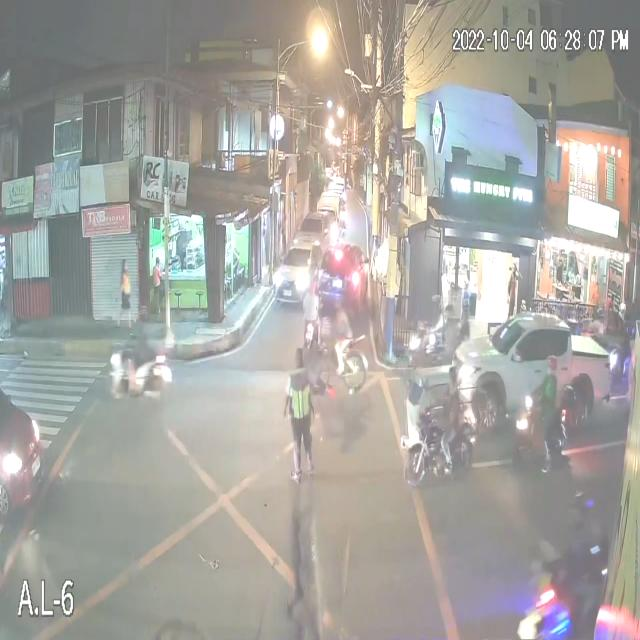Full-Faced: (132, 302, 148, 320)
Half-Faced: (543, 355, 560, 380)
